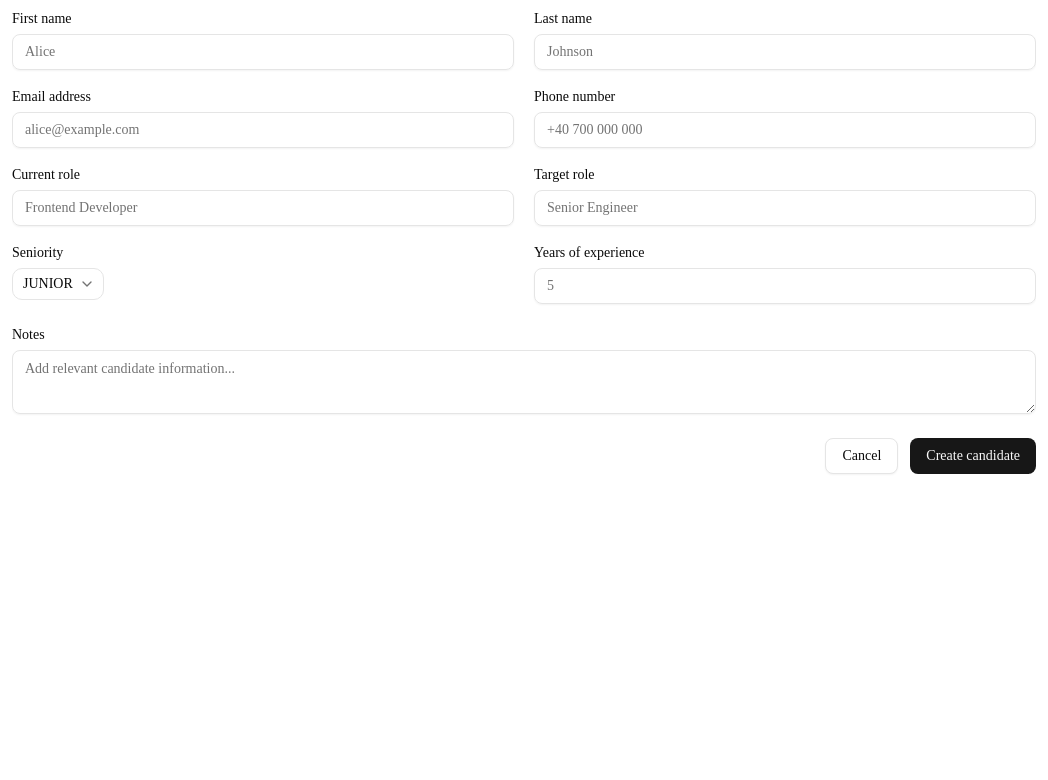
Test case: CandidateForm › shows client validation errors for invalid values
The width and height of the screenshot is (1048, 780).
Step 1. Click the button "Create candidate" → (973,456), box 910,438 -> 1036,474
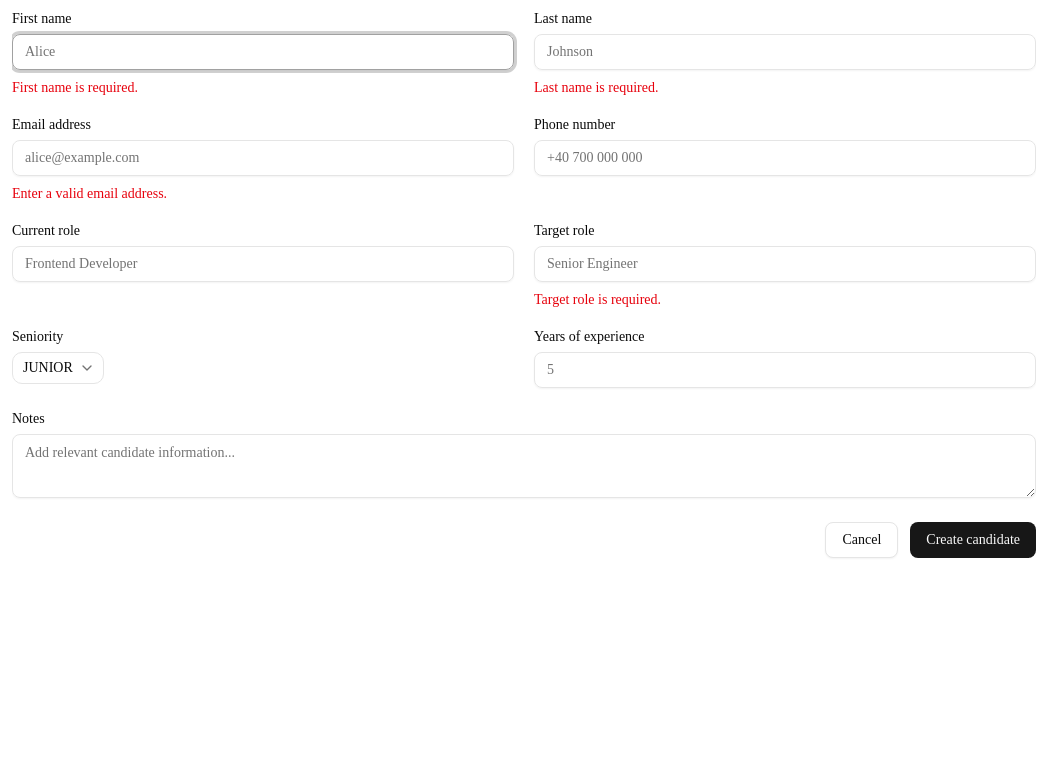
Expected: the text "First name is required." is shown, 12,80 -> 138,95
Expected: the text "Last name is required." is shown, 534,80 -> 658,95
Expected: the text "Enter a valid email address." is shown, 12,186 -> 167,201
